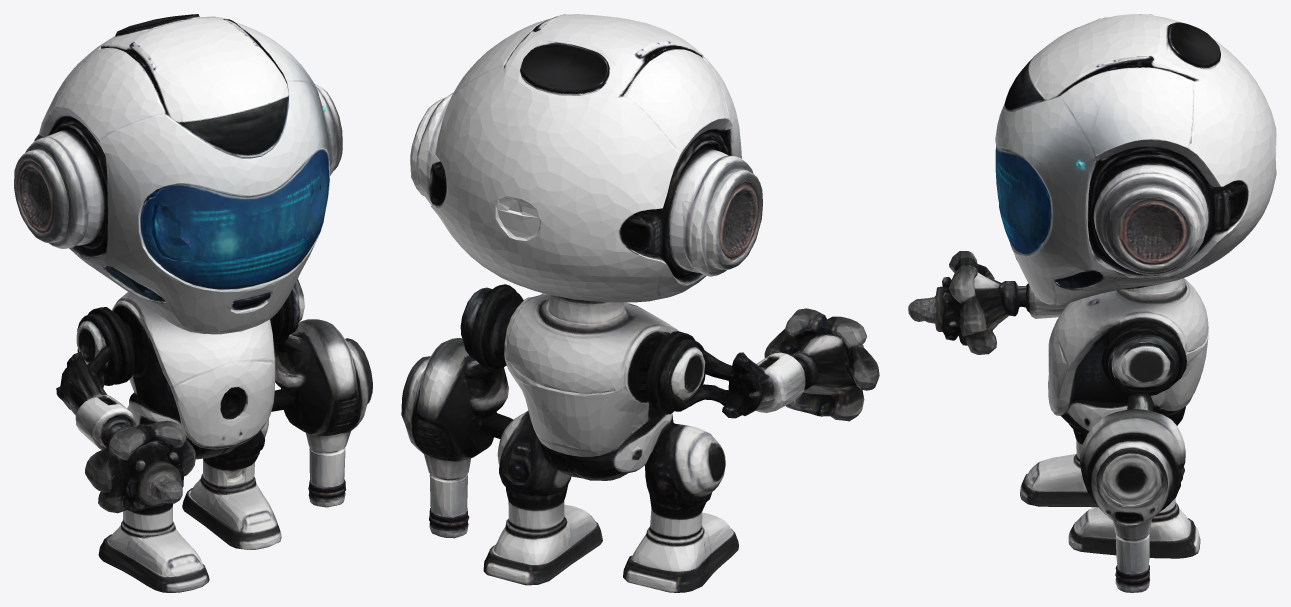
File: Robot3d2.glb
3 views of the same model, side by side, from view 1: azimuth 30°, elevation 25°; view 2: azimuth 150°, elevation 25°; view 3: azimuth 270°, elevation 25° (orthographic). The views are drawn at different scales.
Visible parts, largest first — view 1: world; view 2: world; view 3: world.
Part boxes in pixels (left/top/right/bottom): world: left=14, top=14, right=372, bottom=592; world: left=401, top=14, right=879, bottom=592; world: left=908, top=14, right=1276, bottom=592.
Bounding box in the file's own units: 0.7204 × 0.9993 × 0.6813.
1 material, 1 textured.
